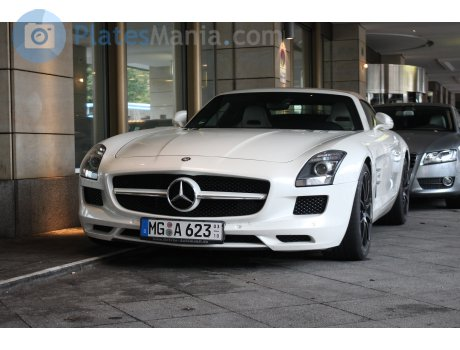License Plates: (147, 216, 219, 237)
